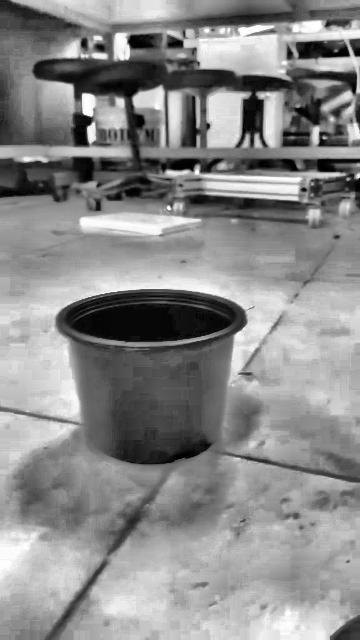pot: (57, 289, 244, 464)
